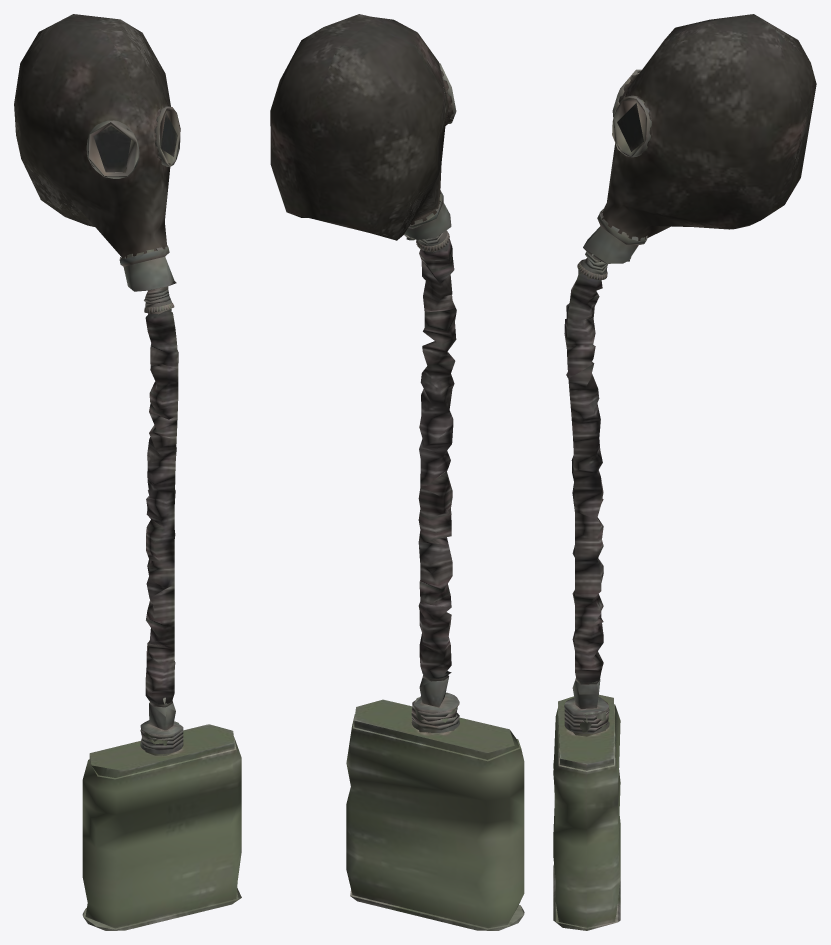
Rendered from old_gas_mask.glb.
3 renders of one model, left to right at view 1: azimuth 30°, elevation 25°; view 2: azimuth 150°, elevation 25°; view 3: azimuth 270°, elevation 25°, orthographic. The views are drawn at different scales.
Visible parts, largest first — view 1: old_gas_mask; view 2: old_gas_mask; view 3: old_gas_mask.
Boxes of the visible parts, x1,y1,x2,y2 form: old_gas_mask: (14, 14, 241, 930); old_gas_mask: (270, 14, 524, 930); old_gas_mask: (553, 14, 816, 930).
Bounding box in the file's own units: 0.2105 × 1.12 × 0.308.
Materials: 1 (1 with a texture image).
